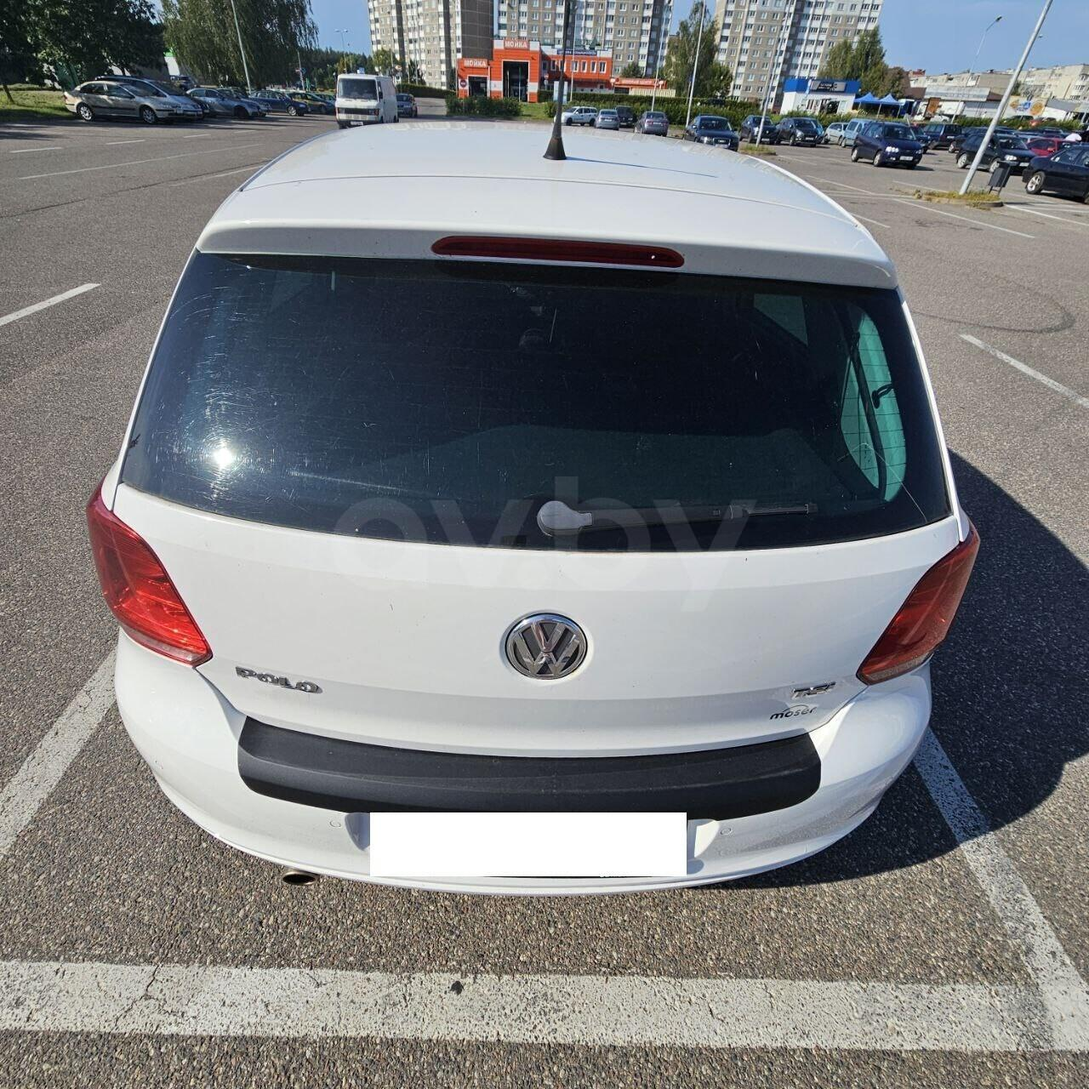Polo_2009-2015: (85, 115, 965, 914)
